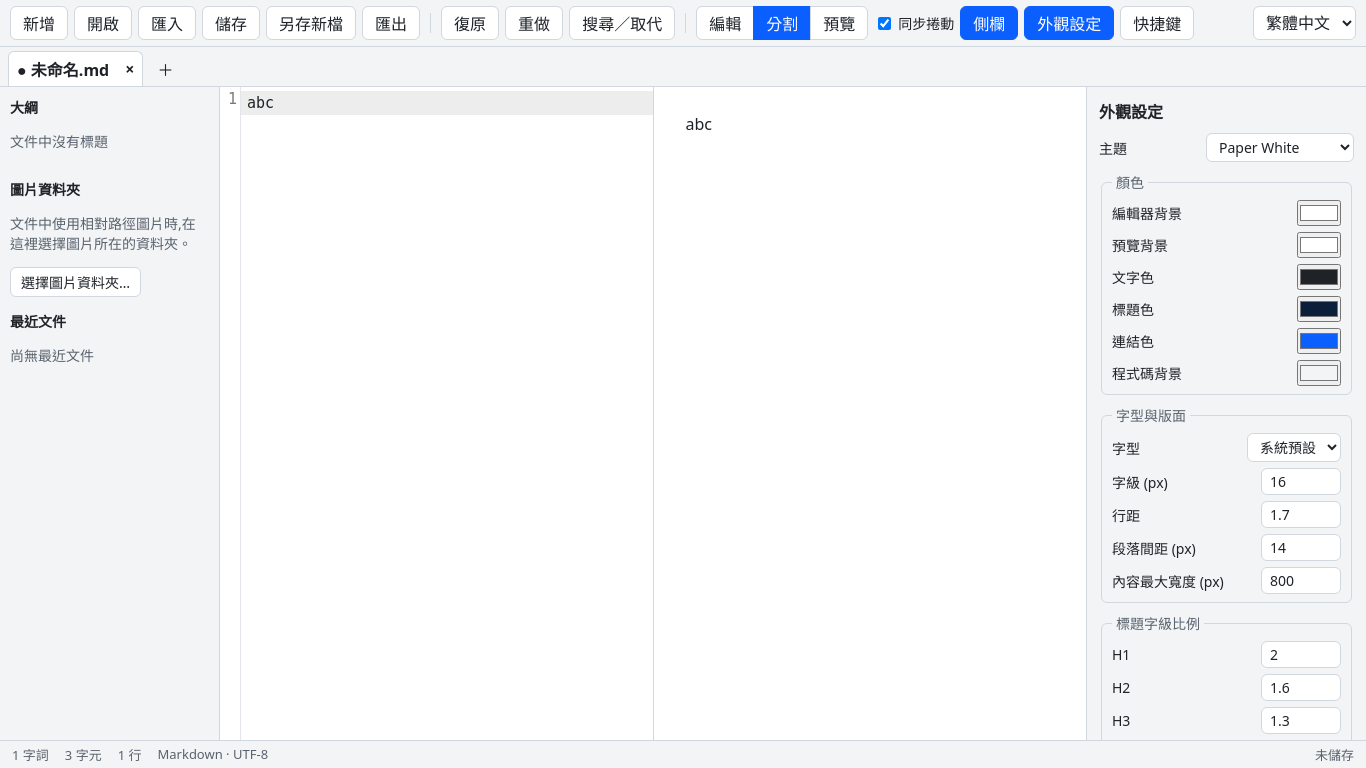
Test case: live preview › keeps the editor's undo history when hidden in preview mode
Click the button "預覽".
click(839, 23)  # box x1=810 y1=6 x2=868 y2=40
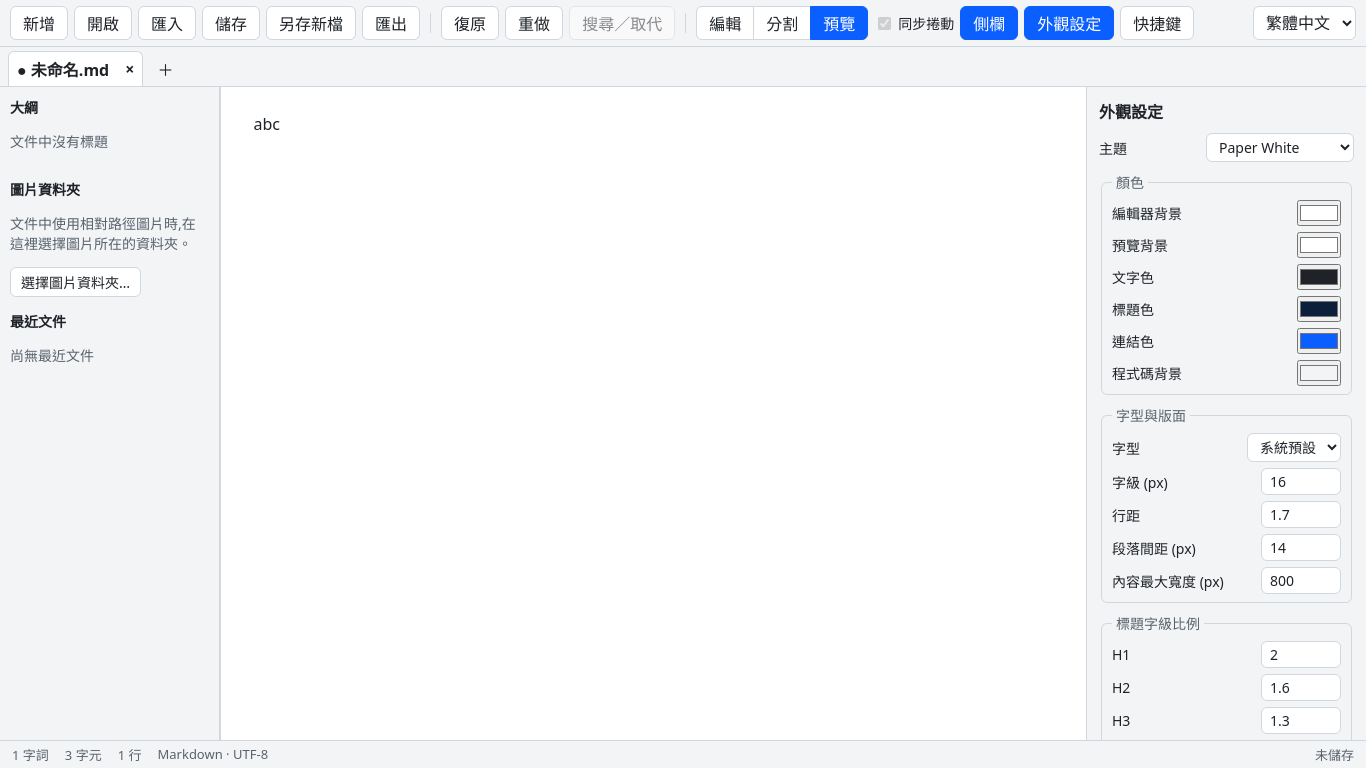
Click the button "分割".
click(782, 23)  # box x1=753 y1=6 x2=811 y2=40
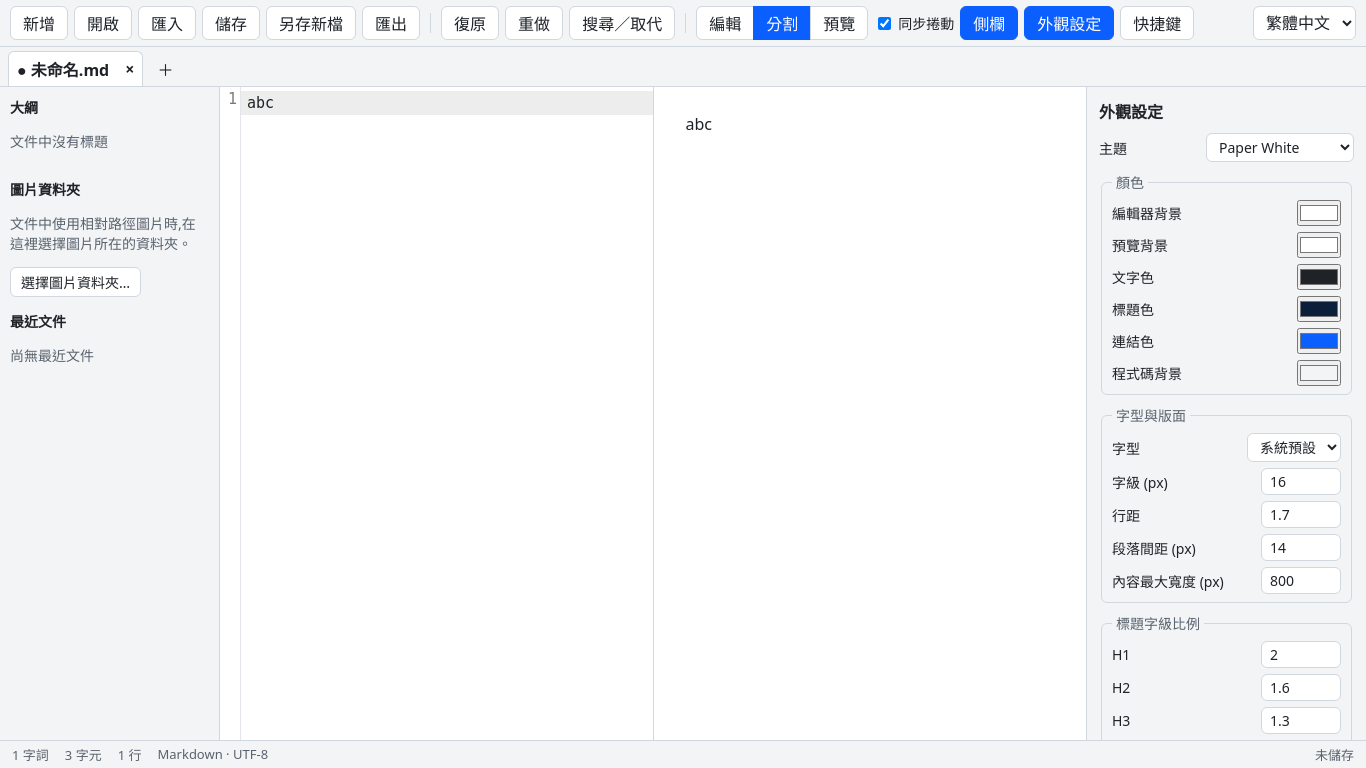
Click the button "復原".
click(470, 23)  # box x1=441 y1=6 x2=499 y2=40
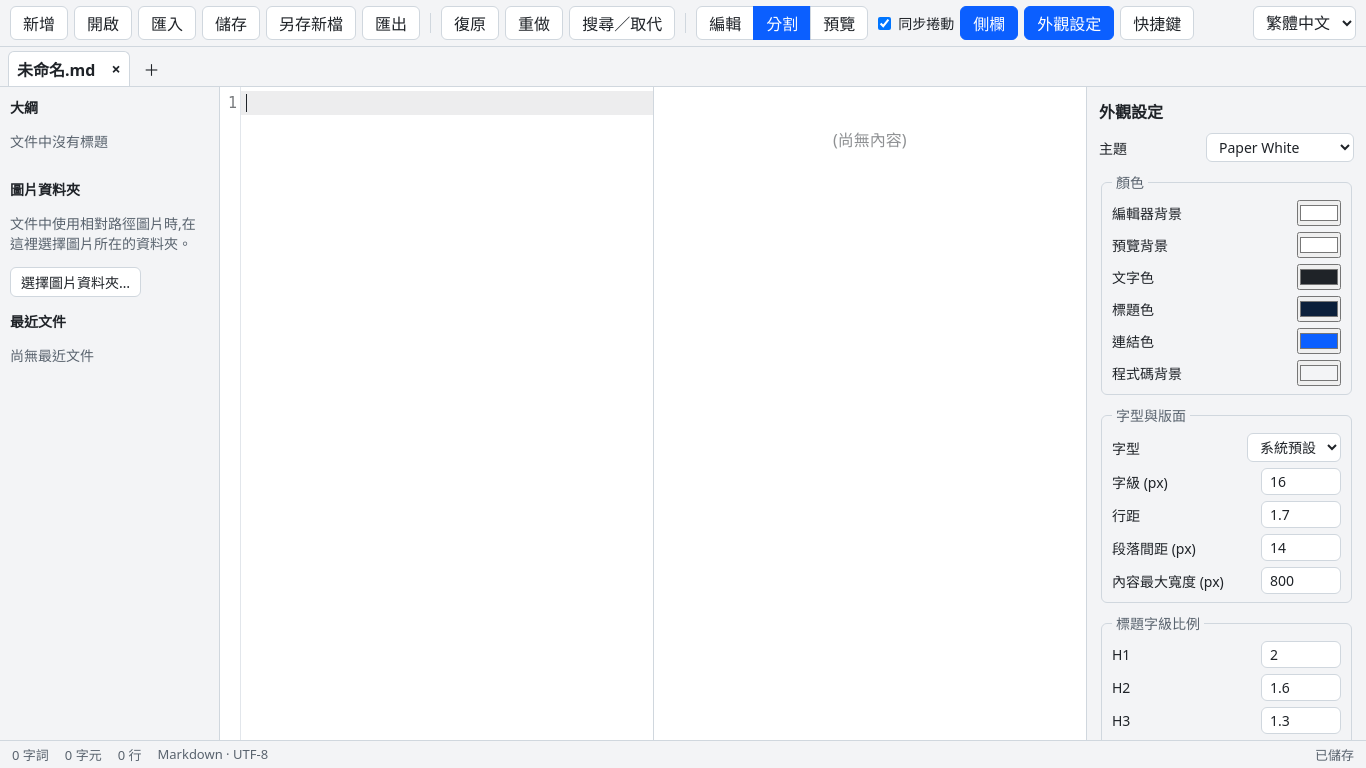
Check: the text "已儲存" is shown, box x1=1315 y1=745 x2=1354 y2=764
